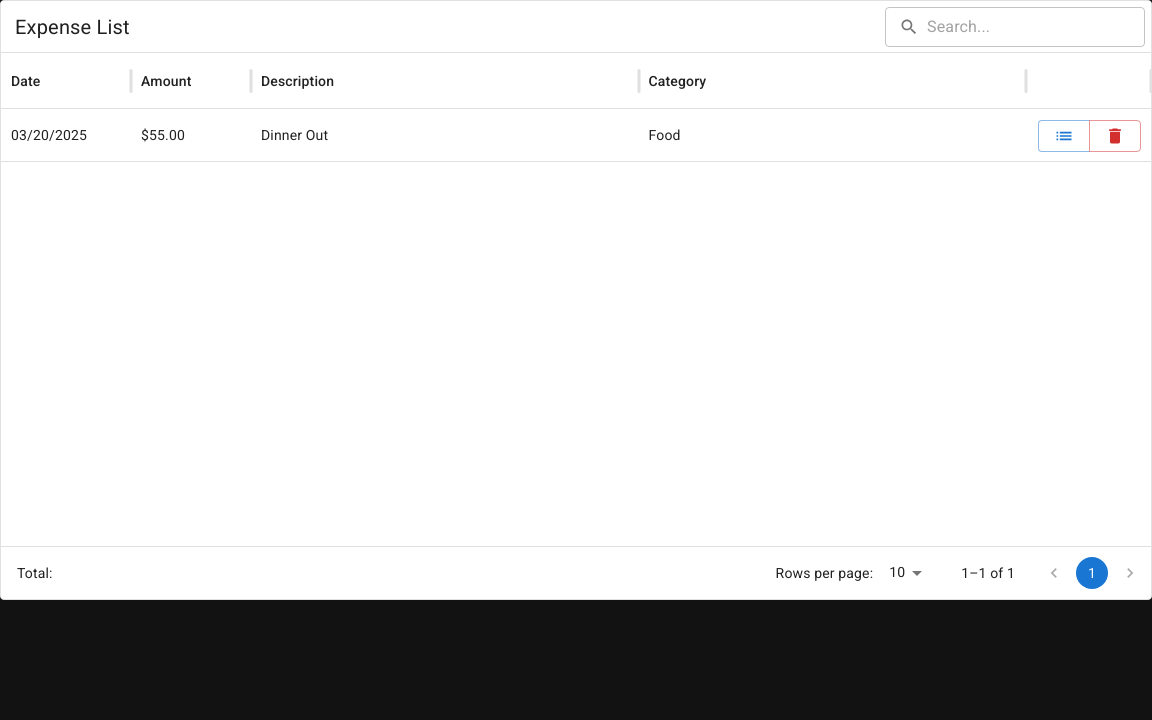
Test: ExpenseList › Delete flow › Opens the confirm dialog when delete button is clicked
Expected: the text "Dinner Out" is shown, [261,127,328,143]
Click the button named "delete": [1115, 136] box [1089,120,1141,152]
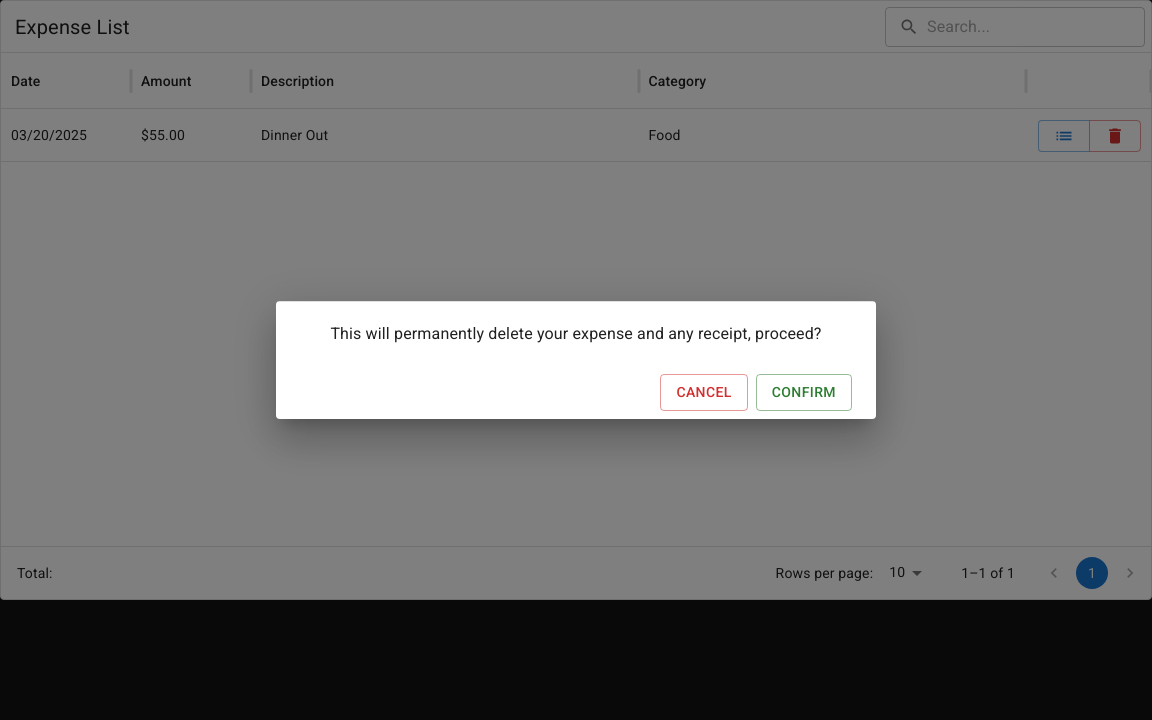
Result: the element with test id "confirm-dialog" is shown
